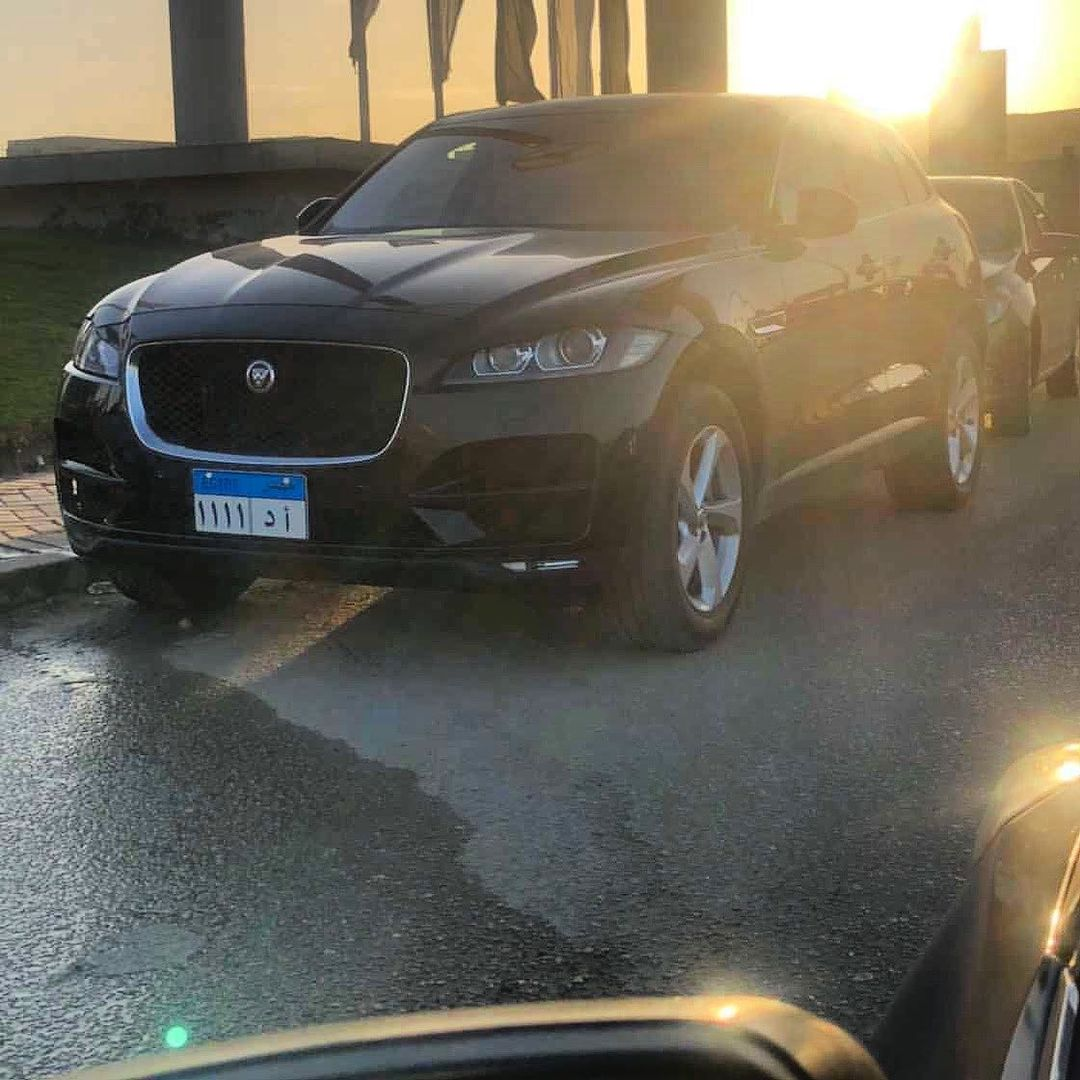carpl: (168, 451, 328, 553)
